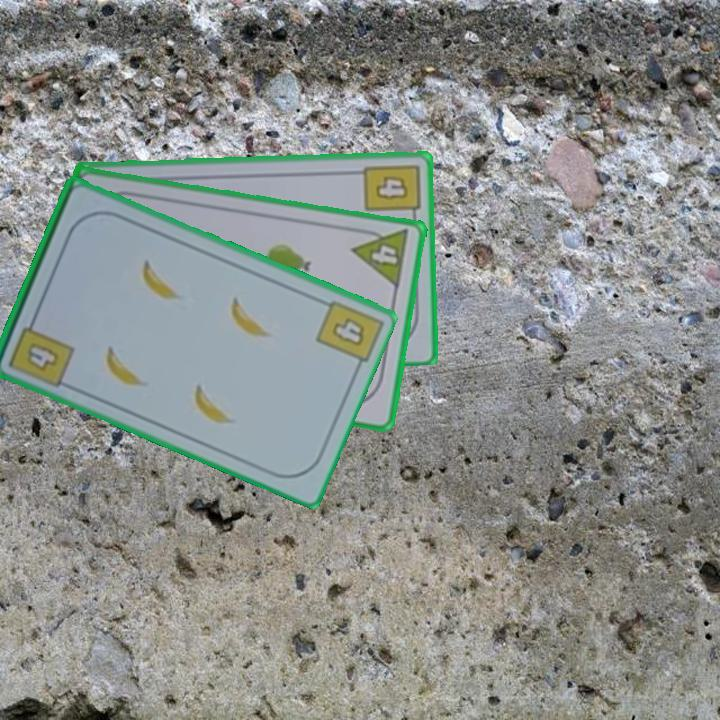4b: (5, 311, 77, 386), (360, 160, 422, 224), (328, 314, 368, 349)
4p: (349, 224, 411, 291)
